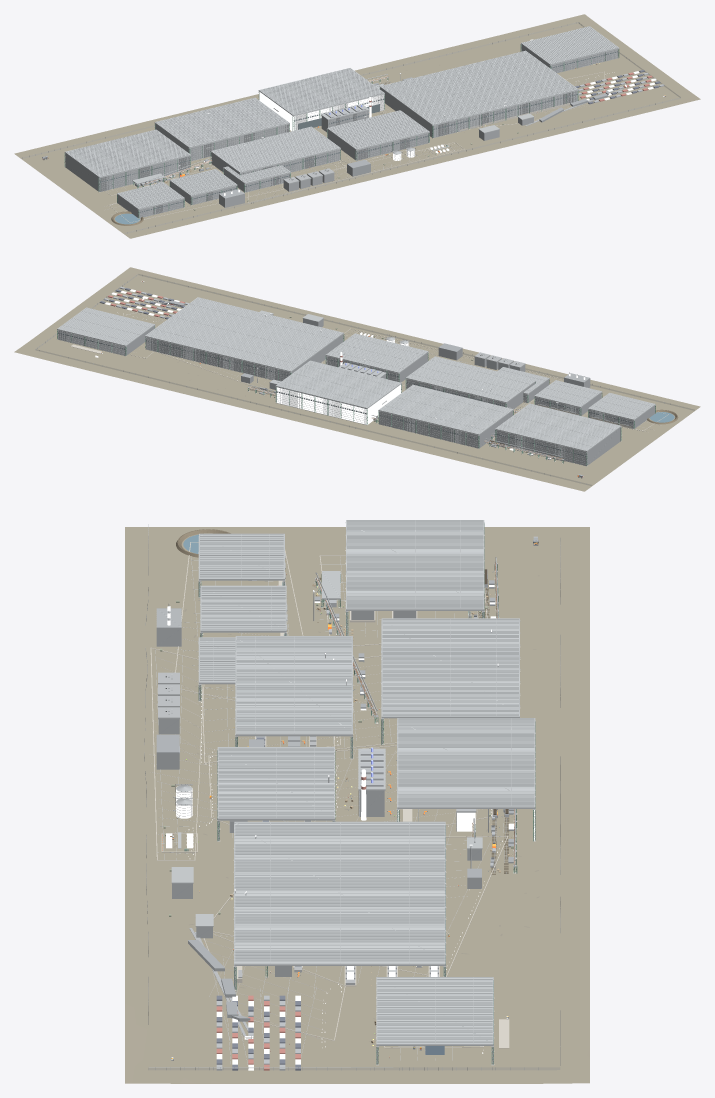
File: bevplant.glb
3 views of the same model, one above another, from view 1: azimuth 30°, elevation 25°; view 2: azimuth 150°, elevation 25°; view 3: azimuth 270°, elevation 25° (orthographic). The views are drawn at different scales.
Visible parts, largest first — view 1: structure/roof, structure/mat_8b8166_48, structure/seam, structure/clad, galv/galv, fence/mesh, structure/white, structure/green, structure/glass, structure/concrete, structure/steelD, structure/gray; view 2: structure/roof, structure/mat_8b8166_48, structure/seam, structure/clad, structure/white, galv/galv, fence/mesh, structure/green, structure/concrete, structure/glass, structure/steelD, structure/gray; view 3: structure/mat_8b8166_48, structure/roof, structure/seam, structure/concrete, galv/galv, structure/steelD, structure/clad, structure/white, structure/gray, structure/green, fence/galv, structure/waste (+2 smaller).
Boxes of the visible parts, x1,y1,x2,y2 form: structure/roof: (64,26,619,209); structure/mat_8b8166_48: (14,14,700,238); structure/seam: (67,27,632,218); structure/clad: (65,45,618,217); galv/galv: (99,44,622,218); fence/mesh: (21,22,680,233); structure/white: (112,71,656,204); structure/green: (64,44,619,218); structure/glass: (100,51,617,212); structure/concrete: (64,57,619,222); structure/steelD: (157,73,609,183); structure/gray: (135,73,664,186); structure/roof: (57,297,655,451); structure/mat_8b8166_48: (14,267,700,491); structure/seam: (58,296,658,464); structure/clad: (58,314,654,465); structure/white: (105,289,642,430); galv/galv: (57,300,655,465); fence/mesh: (35,274,694,485); structure/green: (57,326,655,465); structure/concrete: (57,305,668,466); structure/glass: (58,332,633,456); structure/steelD: (162,300,558,459); structure/gray: (103,286,563,460); structure/mat_8b8166_48: (125,527,589,1083); structure/roof: (171,520,535,1045); structure/seam: (151,520,535,1064); structure/concrete: (150,542,535,1065); galv/galv: (158,522,535,1064); structure/steelD: (156,563,515,1021); structure/clad: (156,581,493,1064); structure/white: (176,612,534,1070); structure/gray: (216,569,508,1070); structure/green: (198,523,535,1064); fence/galv: (144,524,560,1070); structure/waste: (176,529,509,874).
Size of the model in its own units: 1258 by 52.08 by 444.
44 materials, 4 textured.
